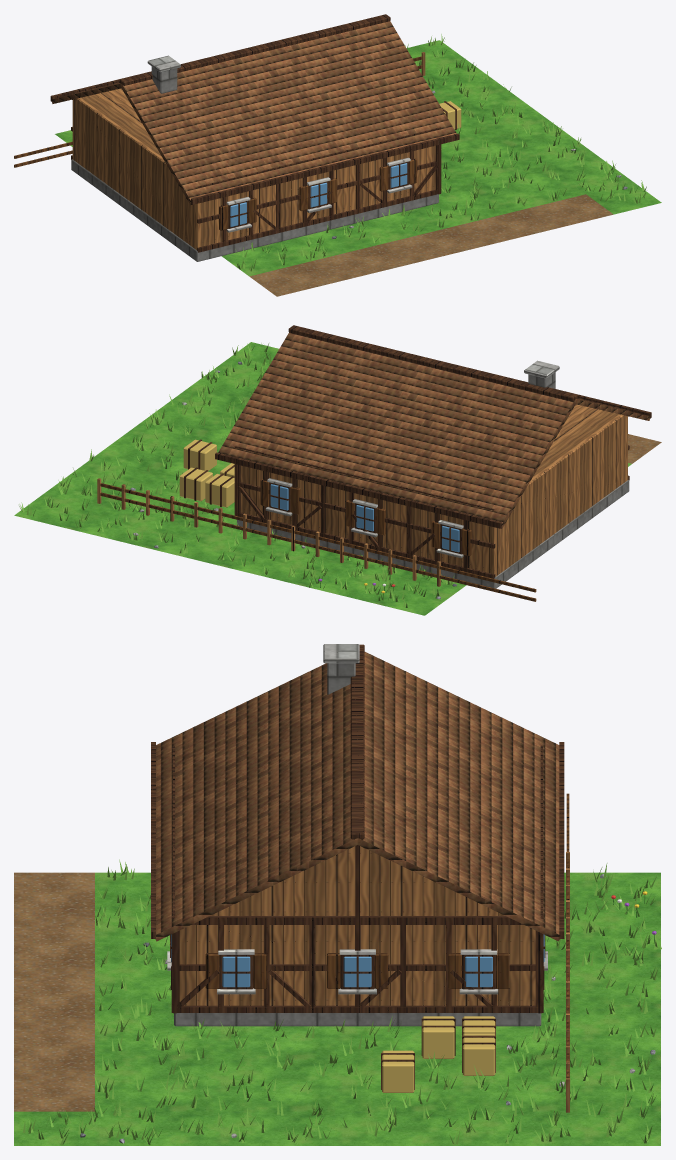
File: chunk_3_9.glb
3 views of the same model, one above another, from view 1: azimuth 30°, elevation 25°; view 2: azimuth 150°, elevation 25°; view 3: azimuth 270°, elevation 25° (orthographic). The views are drawn at different scales.
Visible parts, largest first — view 1: chunk_3_9; view 2: chunk_3_9; view 3: chunk_3_9.
Boxes of the visible parts, x1=… form: chunk_3_9: x1=14, y1=14, x2=661, y2=296; chunk_3_9: x1=14, y1=325, x2=661, y2=615; chunk_3_9: x1=14, y1=644, x2=661, y2=1145.
Size of the model in its own units: 19.02 by 6.09 by 16.03.
19 materials, 12 textured.
